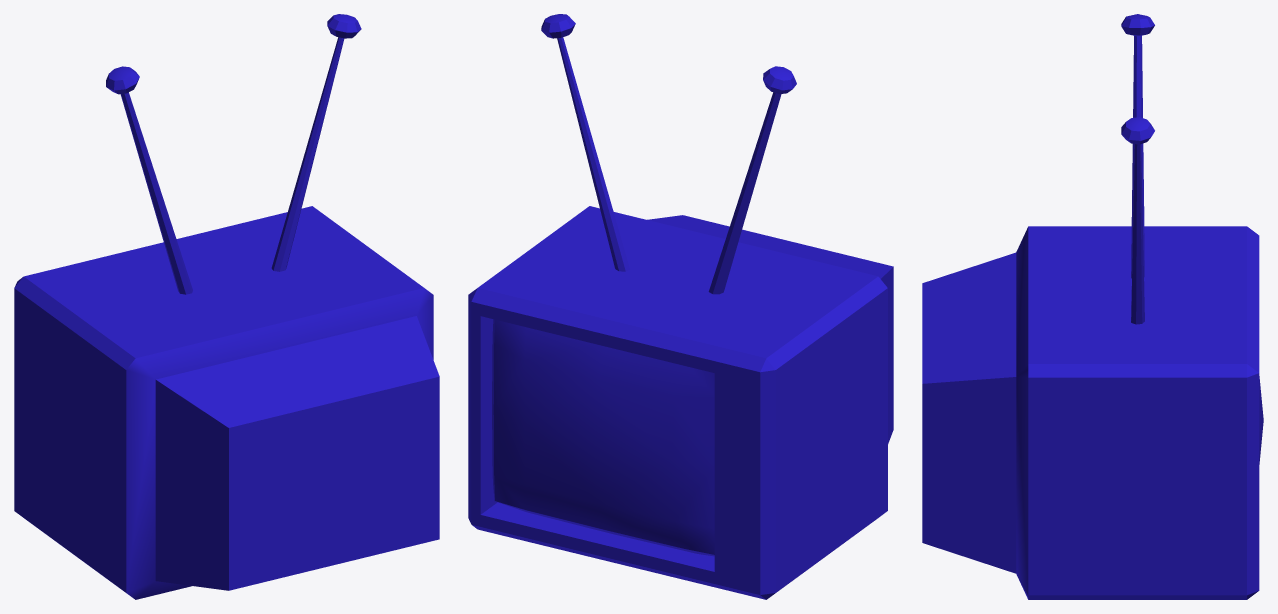
The model's file is SM_ FE_Props_TV01.fbx.
The picture shows the model from 3 angles, left to right: view 1: azimuth 30°, elevation 25°; view 2: azimuth 150°, elevation 25°; view 3: azimuth 270°, elevation 25°; orthographic projection. The views are drawn at different scales.
Parts seen in each view (by area): view 1: SM_ FE_Props_TV01; view 2: SM_ FE_Props_TV01; view 3: SM_ FE_Props_TV01.
Part boxes in pixels (x1,y1,x2,y2): SM_ FE_Props_TV01: (14, 14, 439, 599); SM_ FE_Props_TV01: (468, 14, 893, 599); SM_ FE_Props_TV01: (922, 14, 1263, 599).
Bounding box in the file's own units: 41.55 × 61.77 × 40.88.
